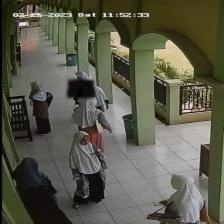Cadar_Niqab: (66, 71, 94, 97)
